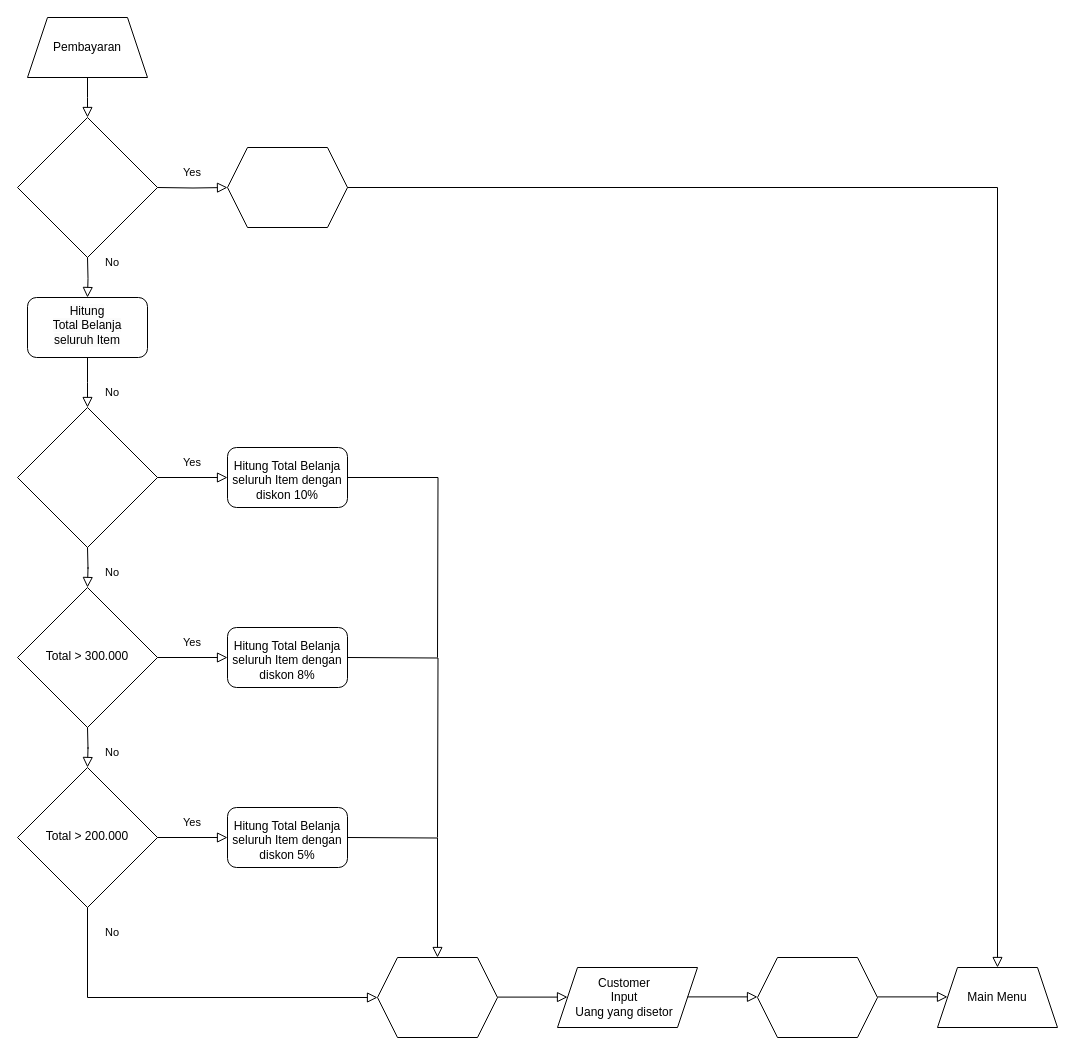
This 1075x1055 diagram has some shape labels left out. Here are the shapes that lost their labels. From the top down, the centre of each, then its label:
At (x=87, y=187): "Isi Keranjang Kosong".
At (x=287, y=187): "Tampilkan pesan Keranjang Kosong".
At (x=87, y=477): "Total > 500.000".
At (x=437, y=997): "Tampilkan Total Harga, Diskon, dan Total Setelah diskon".
At (x=817, y=997): "Tampilkan uang kembalian".
